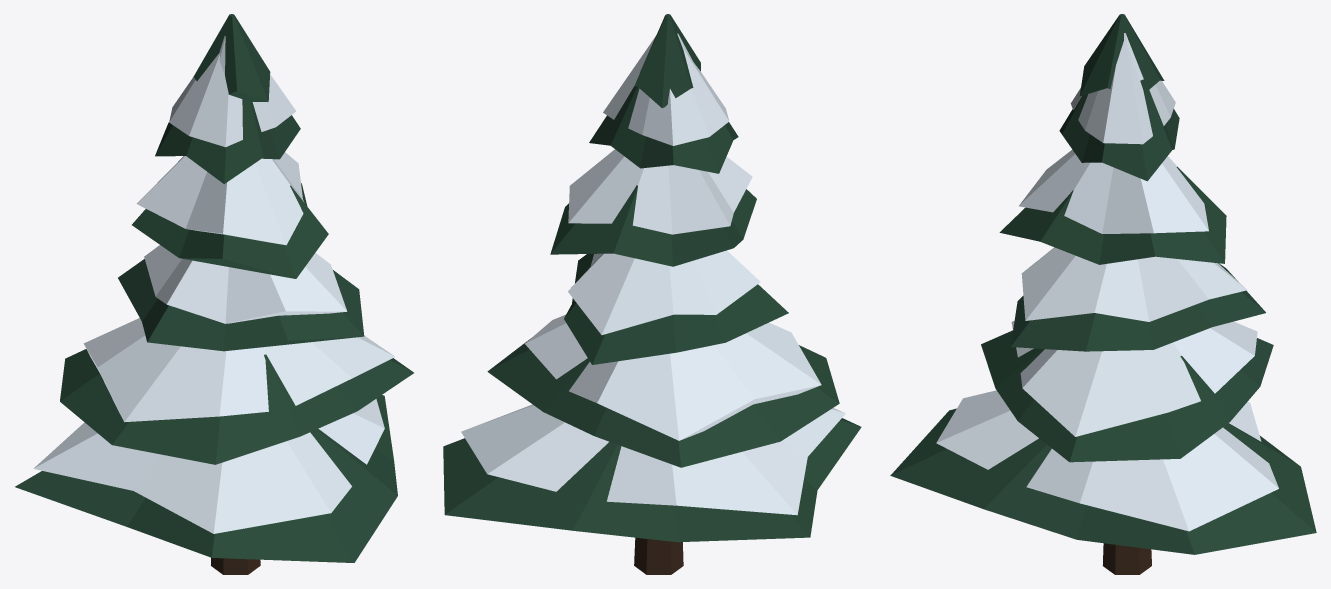
The model's file is Station_Pine_0_0_0.fbx.
3 renders of one model, left to right at view 1: azimuth 30°, elevation 25°; view 2: azimuth 150°, elevation 25°; view 3: azimuth 270°, elevation 25°, orthographic.
Visible parts, largest first — view 1: Station_Pine_0_0_0; view 2: Station_Pine_0_0_0; view 3: Station_Pine_0_0_0.
Boxes of the visible parts, x1=… form: Station_Pine_0_0_0: x1=15, y1=14, x2=413, y2=574; Station_Pine_0_0_0: x1=443, y1=14, x2=861, y2=574; Station_Pine_0_0_0: x1=890, y1=14, x2=1316, y2=574.
Size of the model in its own units: 445 by 638 by 450.
